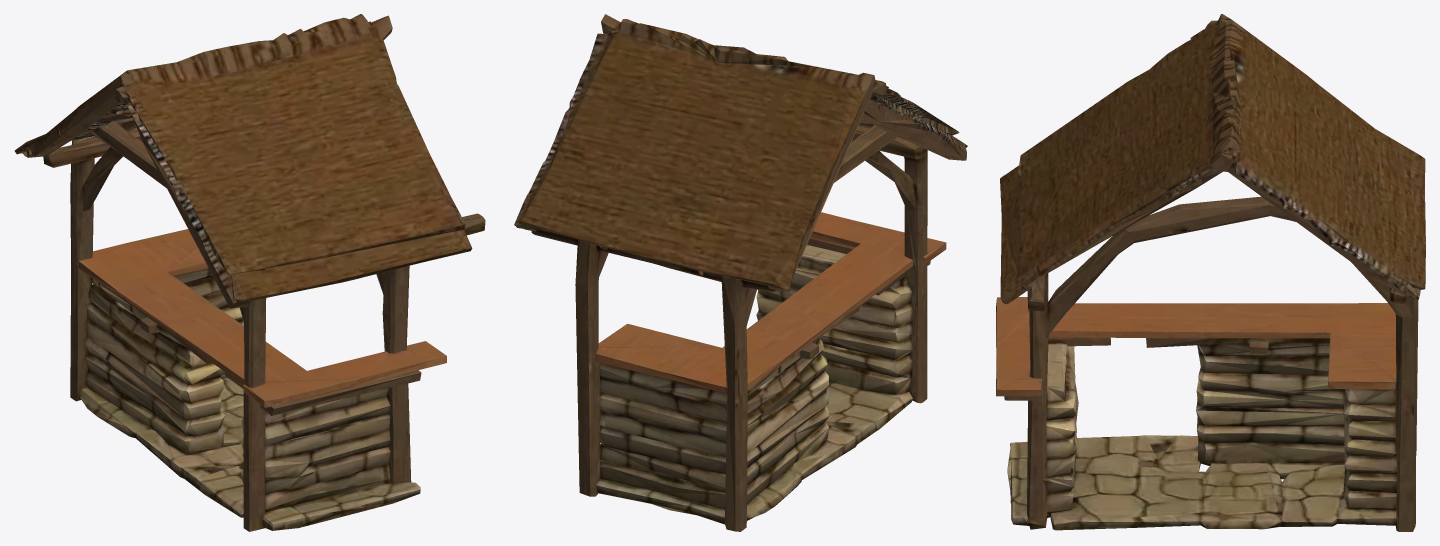
Rendered from village_market_stall_01.glb.
3 views of the same model, side by side, from view 1: azimuth 30°, elevation 25°; view 2: azimuth 150°, elevation 25°; view 3: azimuth 270°, elevation 25° (orthographic). The views are drawn at different scales.
Visible parts, largest first — view 1: geometry_0; view 2: geometry_0; view 3: geometry_0.
Boxes of the visible parts, left/top/right/bottom form: geometry_0: left=14, top=14, right=485, bottom=531; geometry_0: left=514, top=14, right=967, bottom=531; geometry_0: left=996, top=14, right=1425, bottom=531.
Bounding box in the file's own units: 0.7441 × 0.9983 × 0.9323.
Materials: 1 (1 with a texture image).
